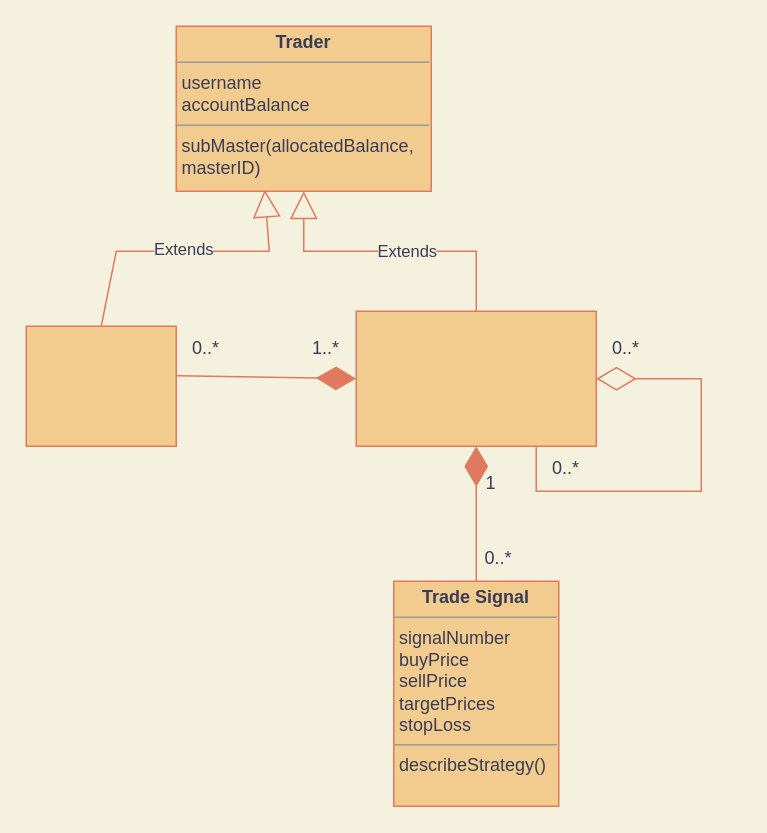
The diagram is 767 pixels wide and 833 high, and some of its shapes have lost their labels. The shapes that lost their labels are listed below. From the top down, each one's centre as x and y in pixels, then its label:
point 100,385: Slave
point 475,378: Master masterID doTrade()
